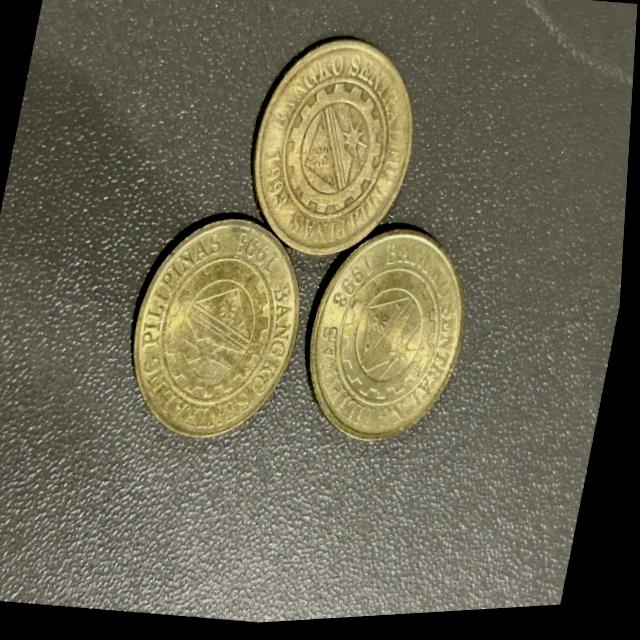25Cent_Old_Back: (115, 208, 320, 456), (239, 33, 436, 272)
